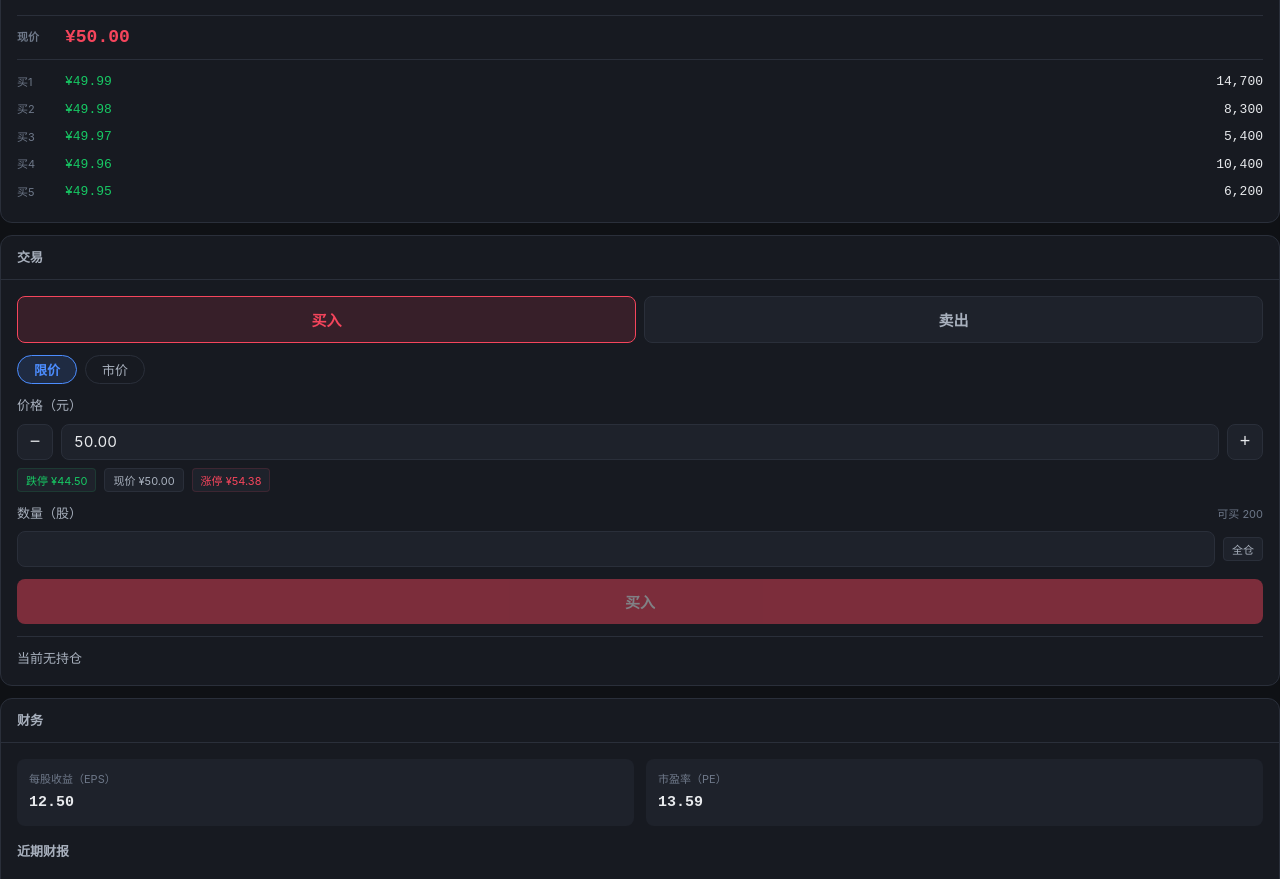
Stock 下单 › 提交的价格是「分」——按元输入 50.50 应发出 5050
The width and height of the screenshot is (1280, 879).
(page scrolled)
Replace the text in the number field with test id "price-input" with "50.50": (640,442) [61, 424, 1219, 460]
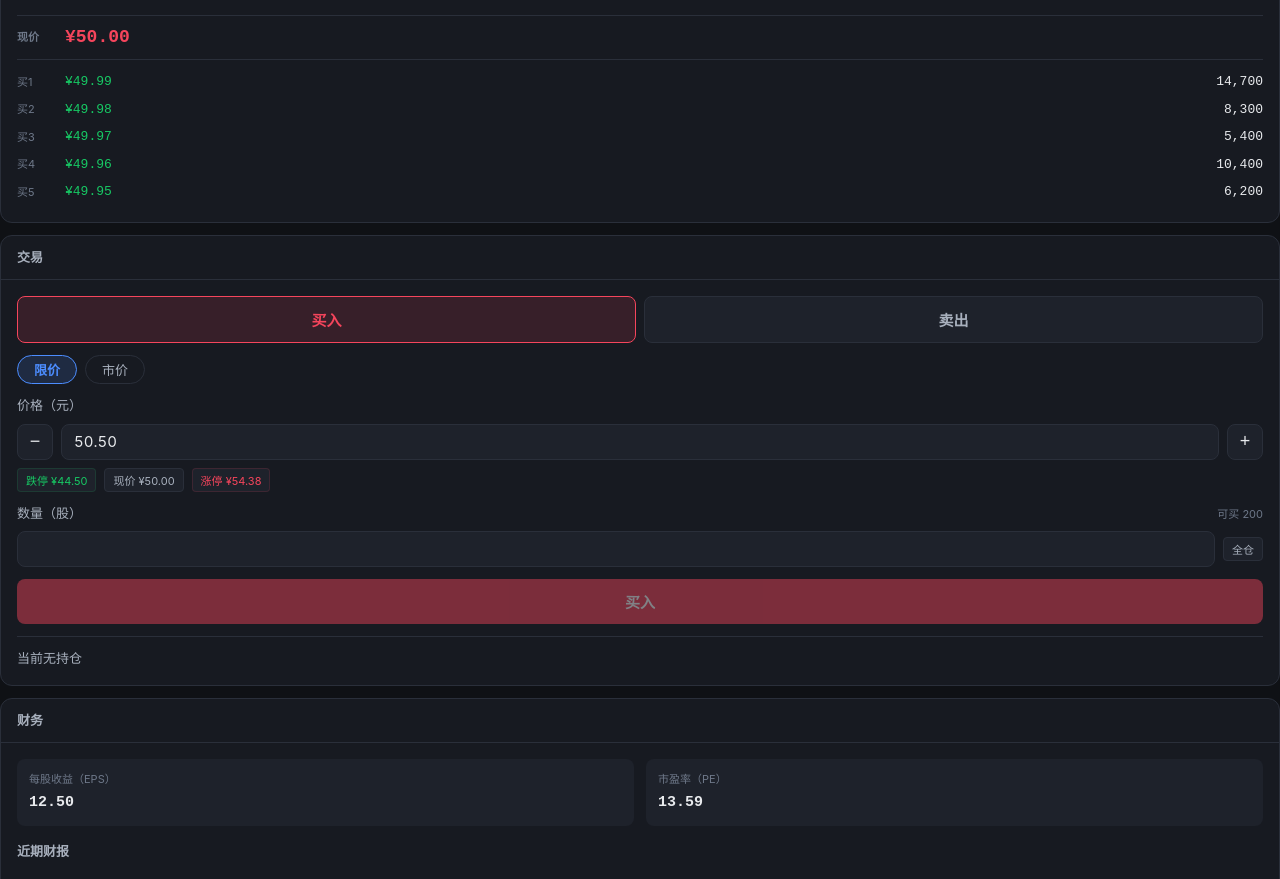
In the number field with test id "qty-input": (616,549) [17, 531, 1215, 567], type "100"
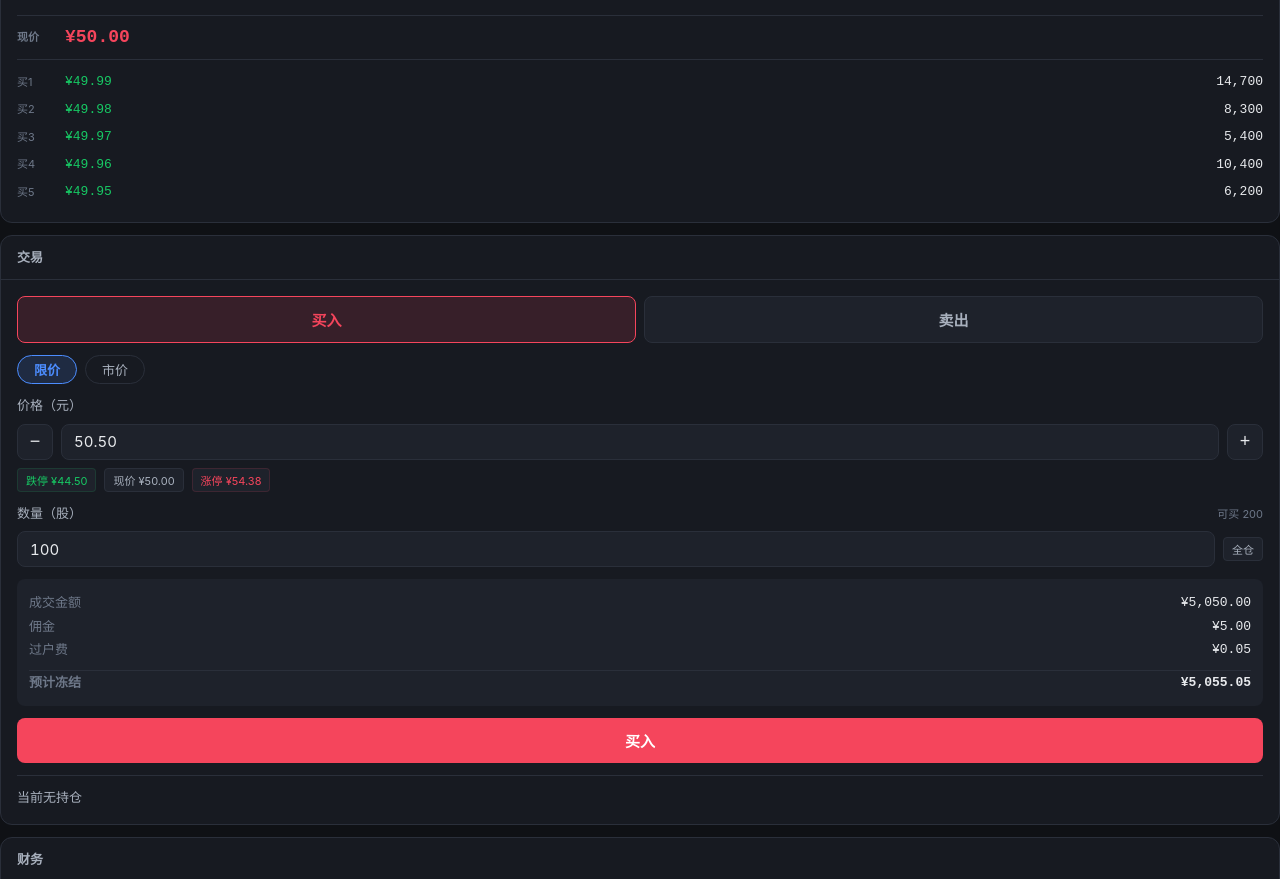
Click the button with test id "submit-order": (640,740) [17, 718, 1263, 763]
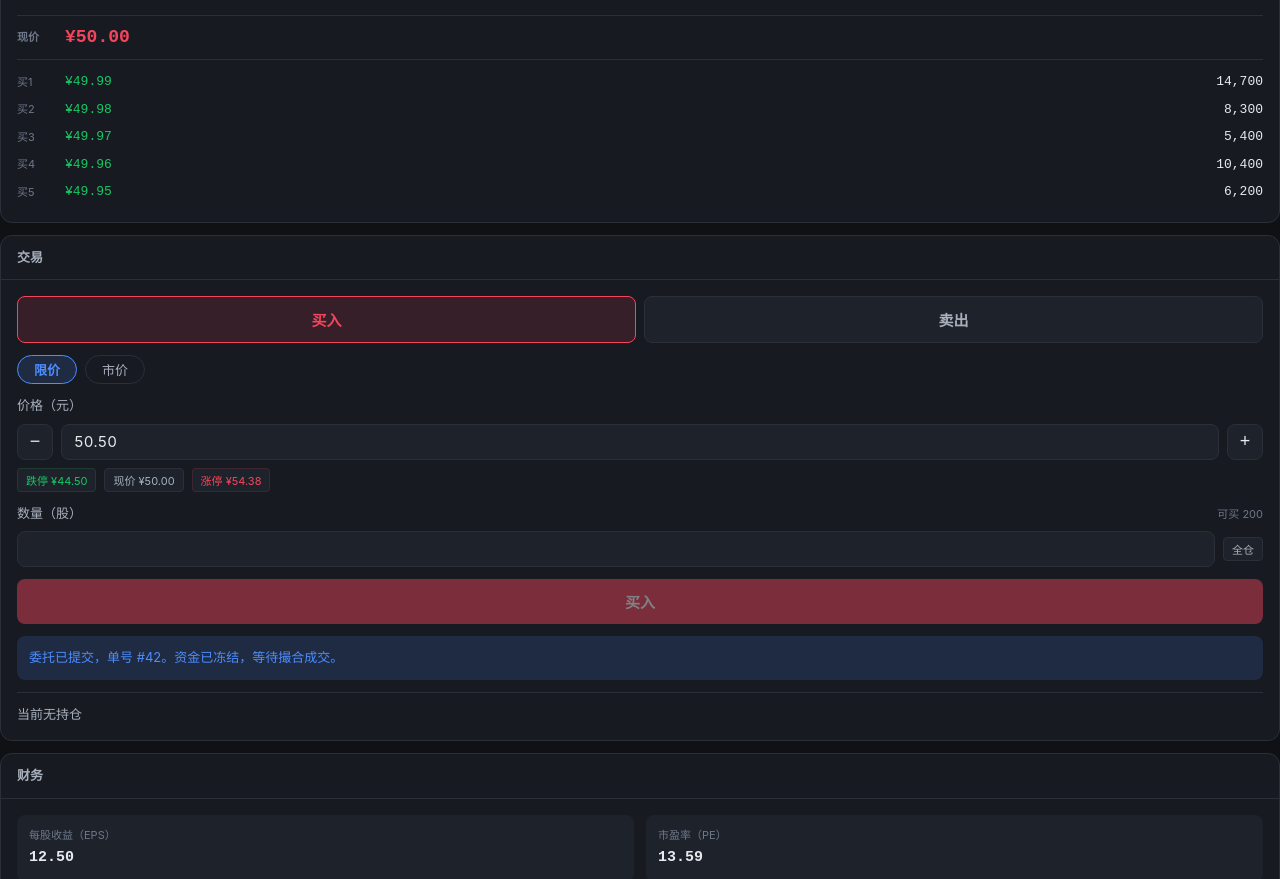
Expected: the text "委托已提交，单号 #42。资金已冻结，等待撮合成交。" is shown, [17, 636, 1263, 680]
